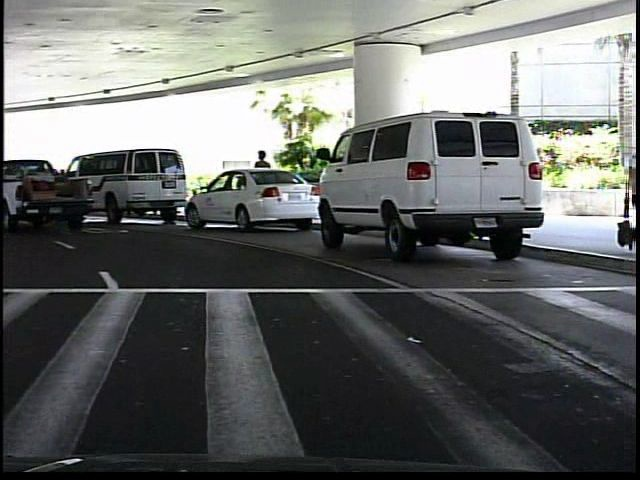person: (251, 146, 278, 218), (622, 139, 639, 253)
